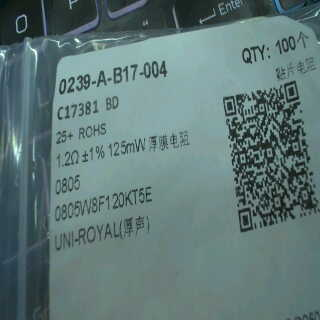1.2R: (52, 147, 81, 200)
